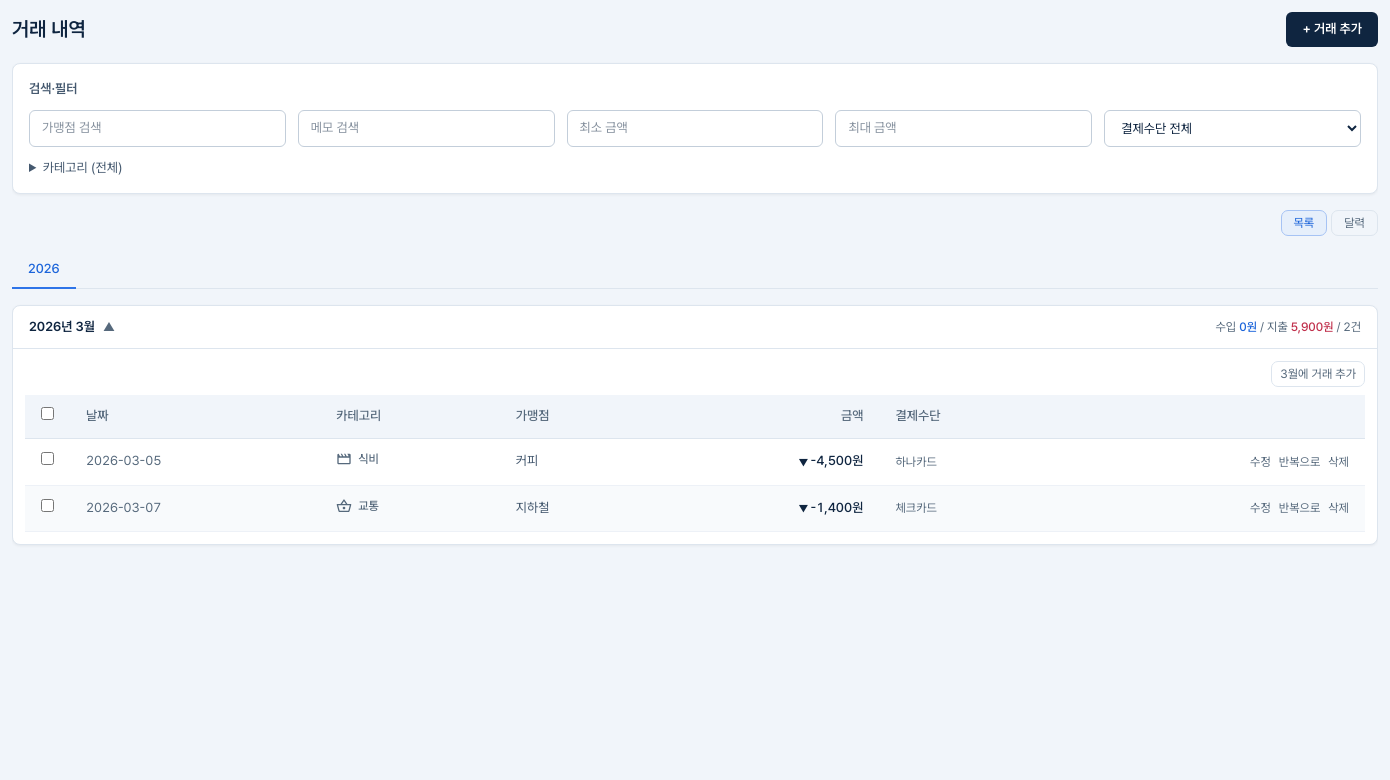
선택 › 전체 선택이 그 달의 거래를 모두 고른다
Click the checkbox named "전체 선택" at (48, 414), box [41,407,54,420]
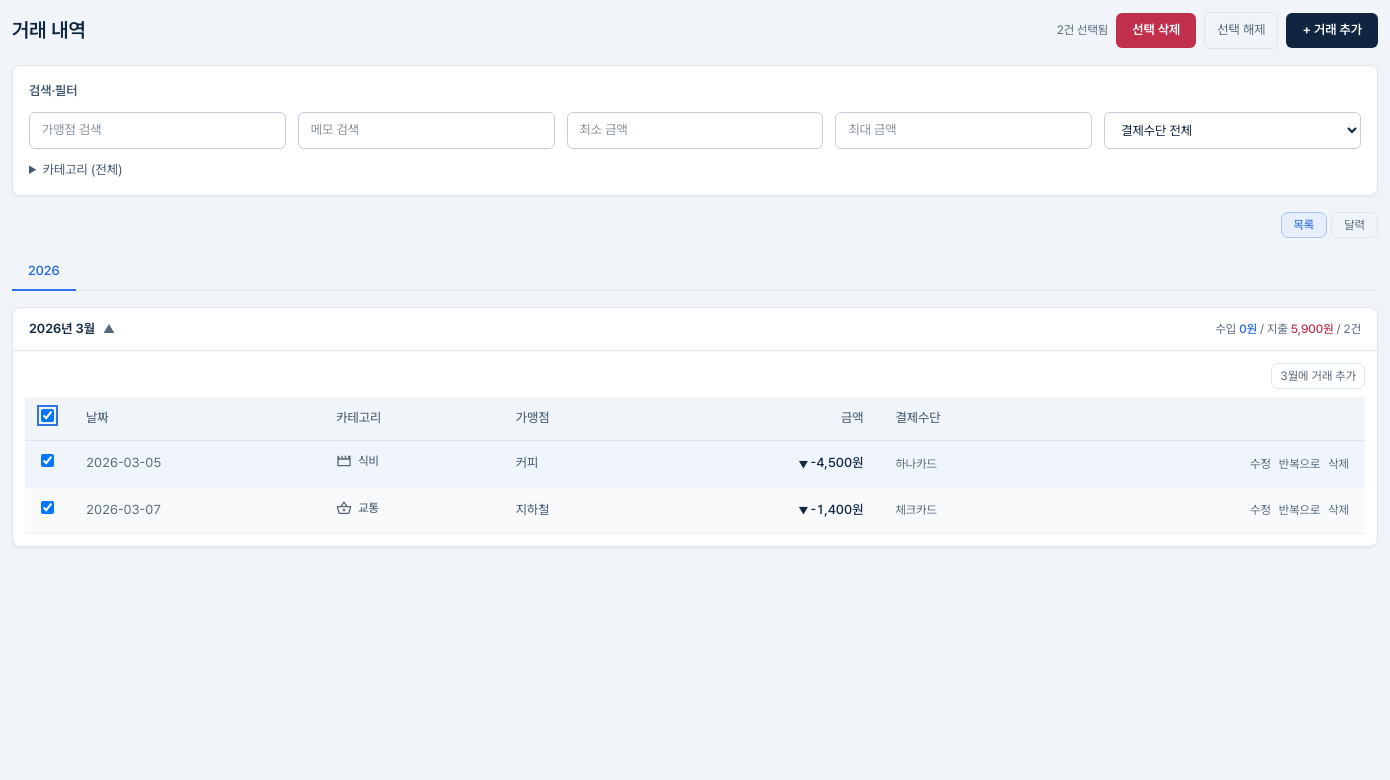
expect the text "2건 선택됨" is shown: met, box [1057,22,1108,38]
